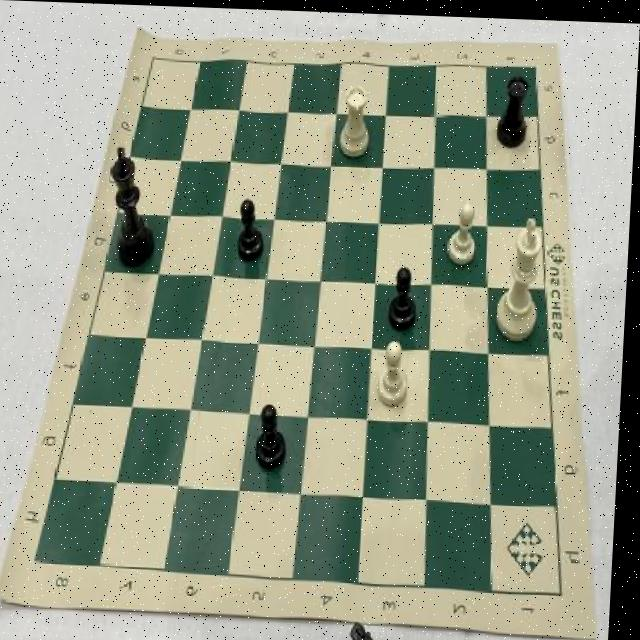black-bishop: (105, 139, 167, 275)
black-knight: (252, 394, 301, 479), (230, 185, 277, 269), (385, 253, 429, 333)
black-queen: (492, 64, 538, 154)
white-bishop: (488, 204, 553, 345)
white-knight: (374, 333, 421, 413), (446, 193, 488, 267)
white-queen: (333, 77, 380, 170)
